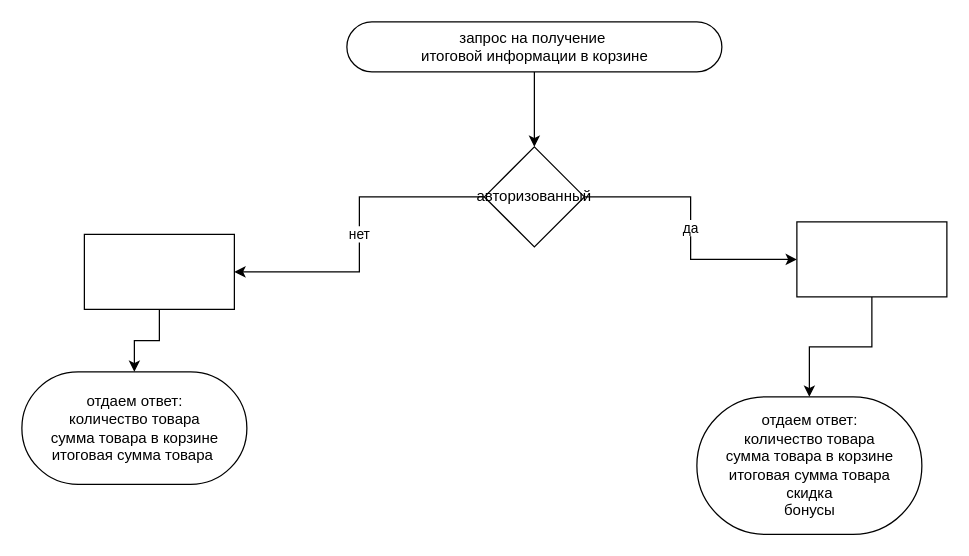
Image size: 969x556. Some labels were removed from this diagram. The shapes that lost their labels are listed below. From the top down, each one's centre as x and y in pixels, then its label:
pixel 158 271: вычесление идет в webshopt
pixel 871 259: отпраляем запрос в retailCrm, для вичесление скидки или бонусов
